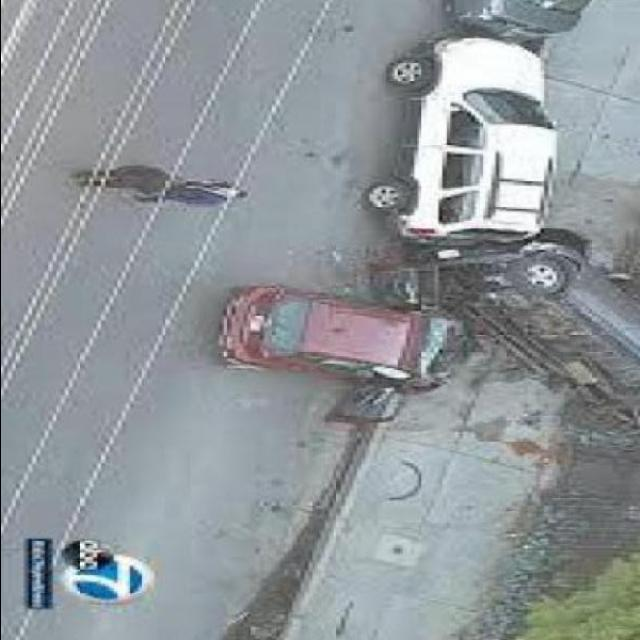accident: (213, 35, 639, 429)
